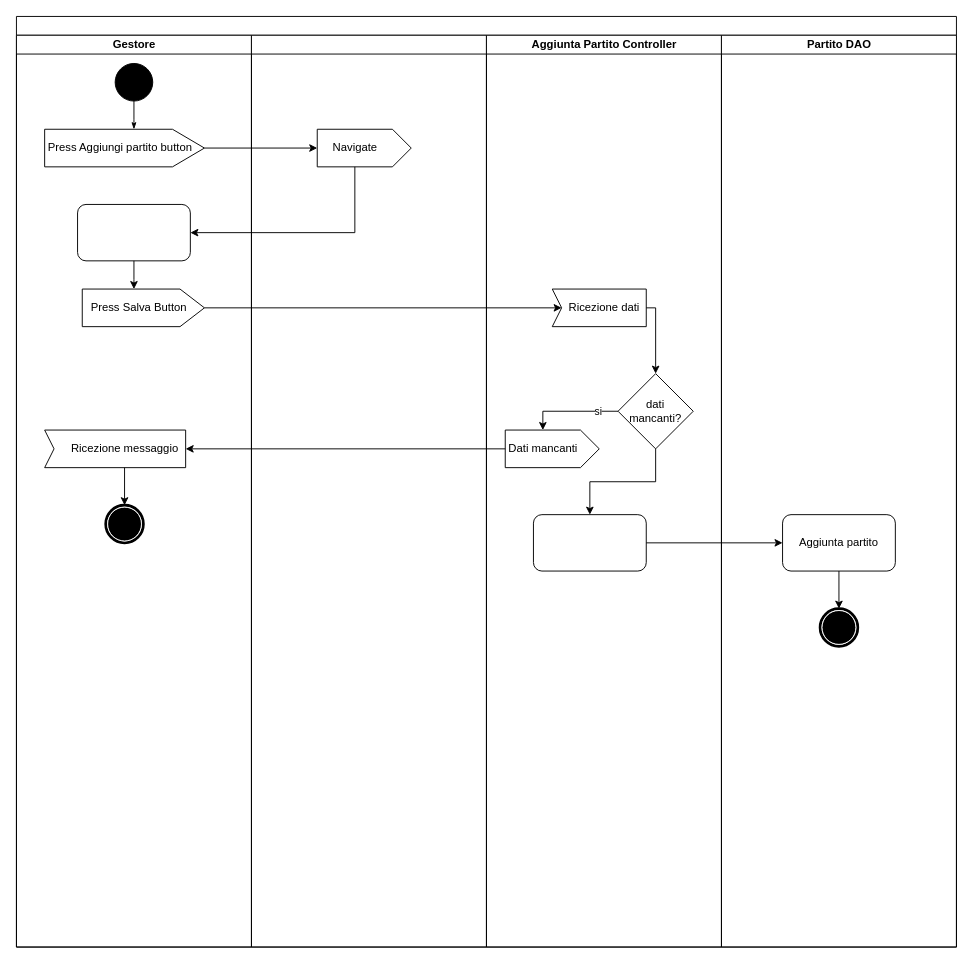
Some shapes in this 973 by 964 pixel diagram are drawn without their labels. Each missing label, with the box of its shape:
Crea istanza partito: (533, 514, 646, 571)
Gestione Liste Controller: (251, 34, 486, 947)
Inserimento nome: (77, 204, 190, 261)
